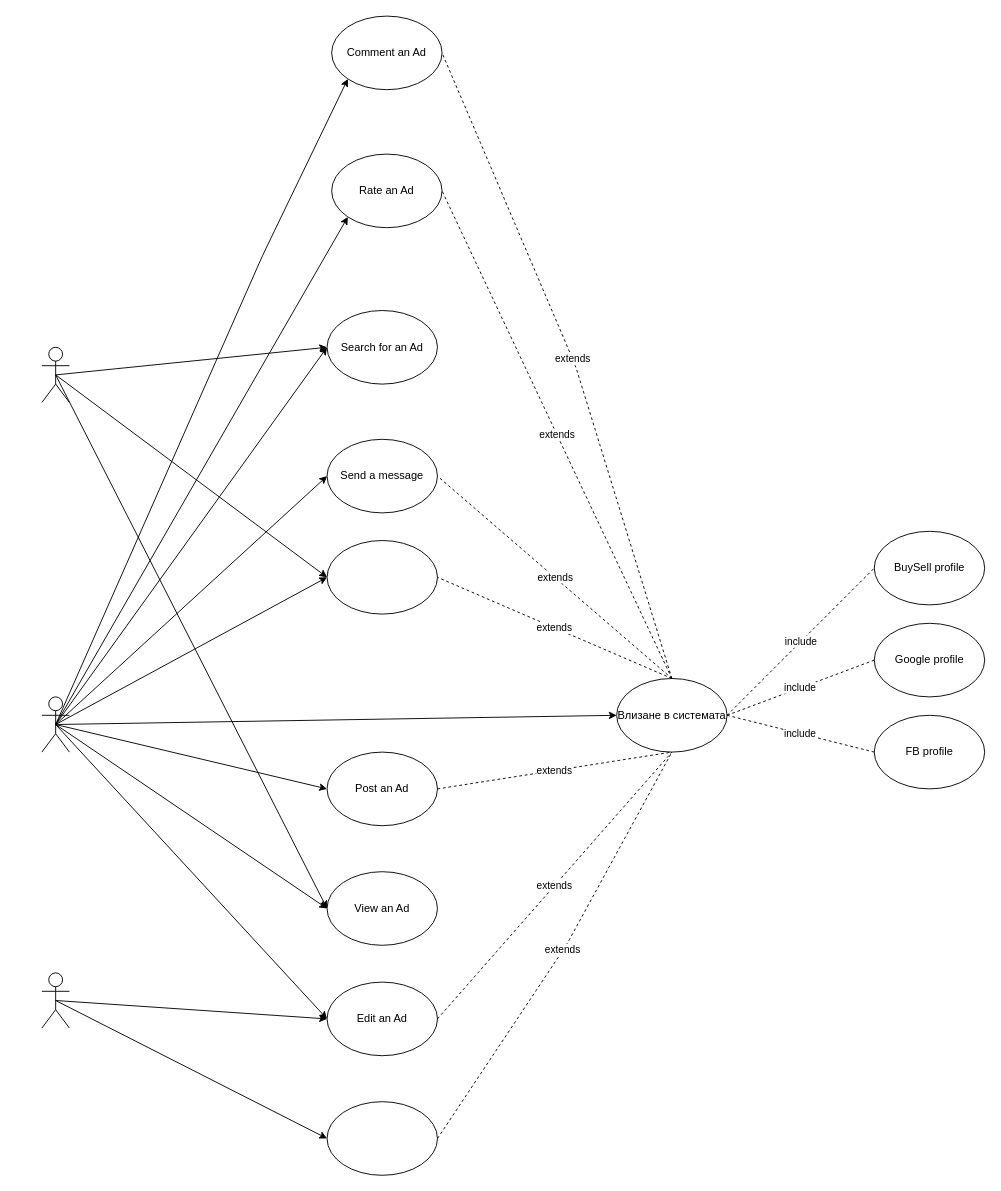
Image size: 1001x1191. Some labels were removed from this diagram. The shapes that lost their labels are listed below. From the top down, each one's centre as x and y in pixels, then its label:
the point at 55,374: Guest
the point at 381,577: Registration
the point at 55,724: Registered User
the point at 55,1000: Administrator
the point at 381,1138: Delete an Ad
